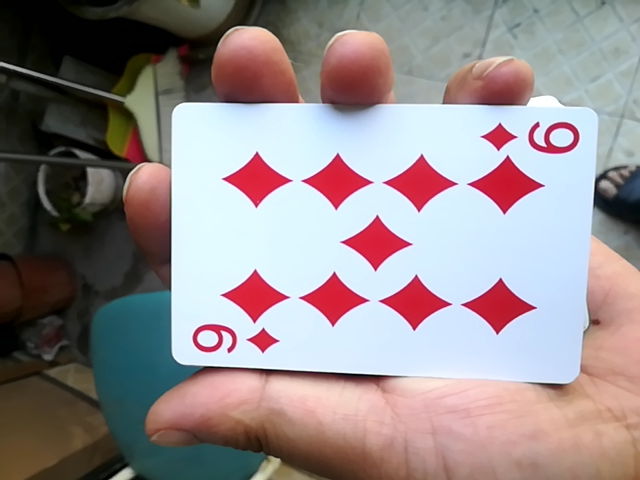fk 9: (152, 89, 614, 391)
